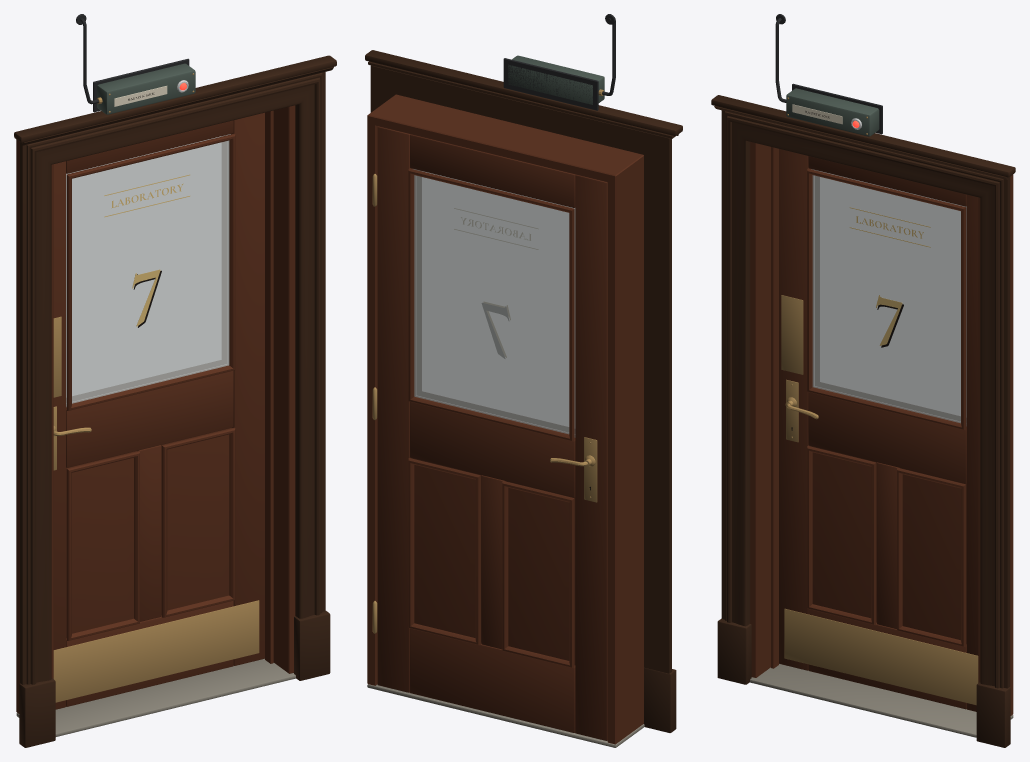
The model's file is door_lab7.glb.
3 views of the same model, side by side, from view 1: azimuth 30°, elevation 25°; view 2: azimuth 150°, elevation 25°; view 3: azimuth 330°, elevation 25° (orthographic). The views are drawn at different scales.
Visible parts, largest first — view 1: IA_door_leaf, door_frame; view 2: IA_door_leaf, door_frame; view 3: IA_door_leaf, door_frame.
Part boxes in pixels (bbox=[...]): IA_door_leaf: bbox=[53, 112, 264, 709]; door_frame: bbox=[14, 14, 336, 747]; IA_door_leaf: bbox=[377, 126, 607, 740]; door_frame: bbox=[365, 14, 682, 747]; IA_door_leaf: bbox=[779, 149, 978, 711]; door_frame: bbox=[711, 14, 1015, 747].
Bounding box in the file's own units: 1.25 × 2.7 × 0.3397.
